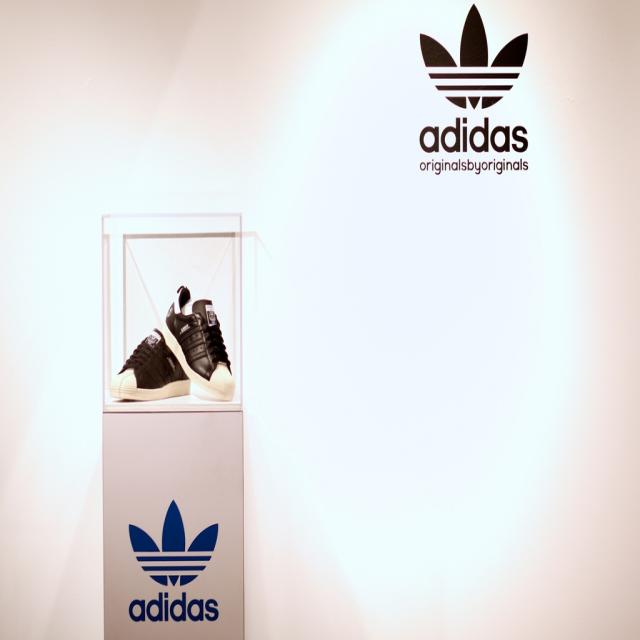adidas: (411, 2, 539, 162), (120, 490, 228, 629)
